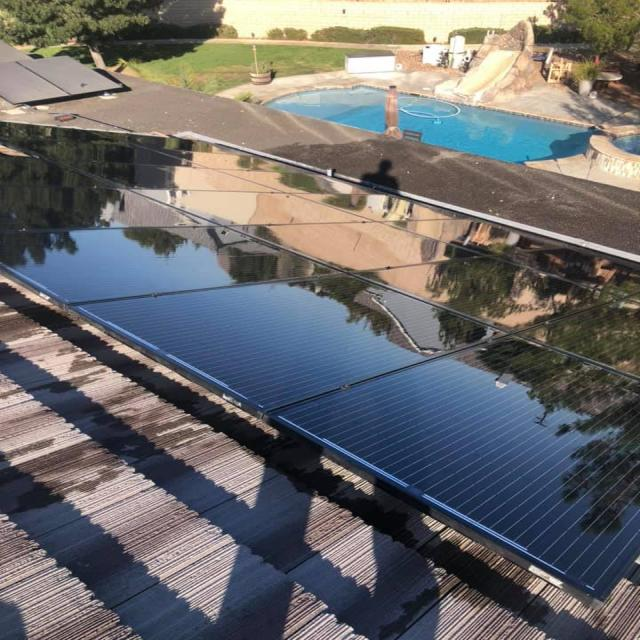clean-solar-panel: (2, 124, 638, 598)
